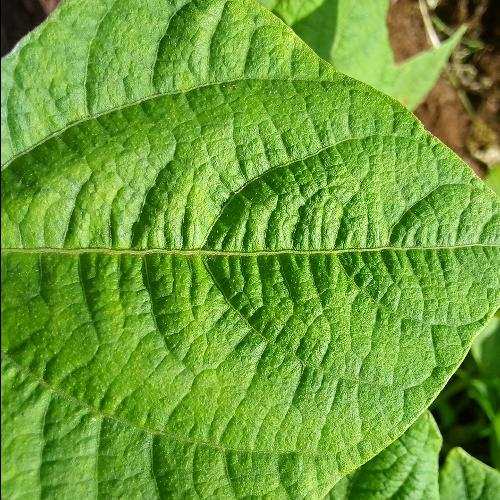sehat: (0, 122, 410, 406)
